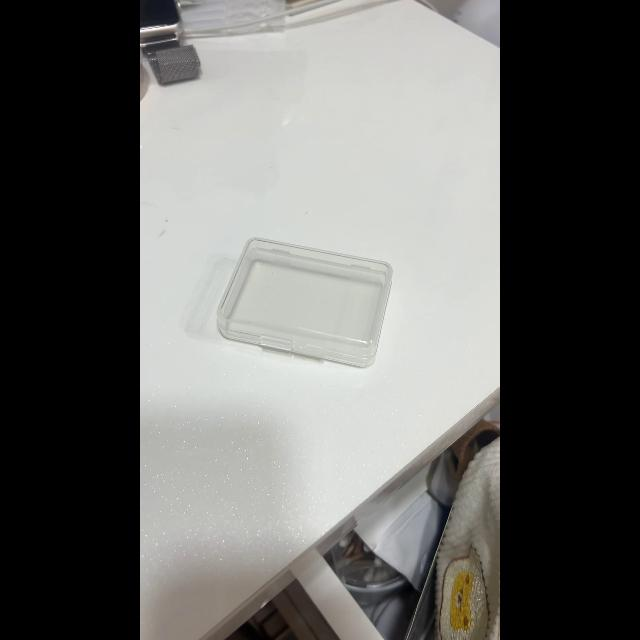clean: (224, 245, 390, 339)
